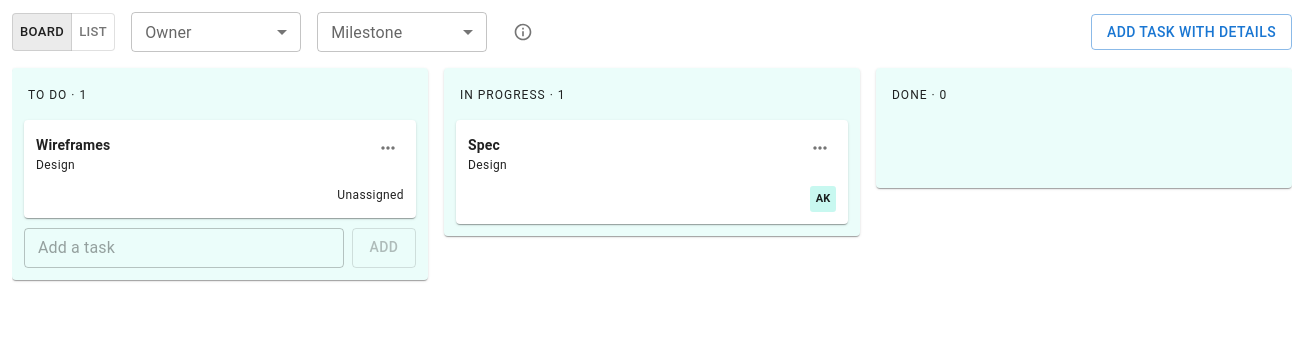
TasksTab: a manager › shows no toast and no Undo when a move is refused
Expected: the button "Wireframes" is shown, [36,135,110,155]
Click the button named "Task actions: Wireframes".
click(388, 148)  # box [366,126,410,170]
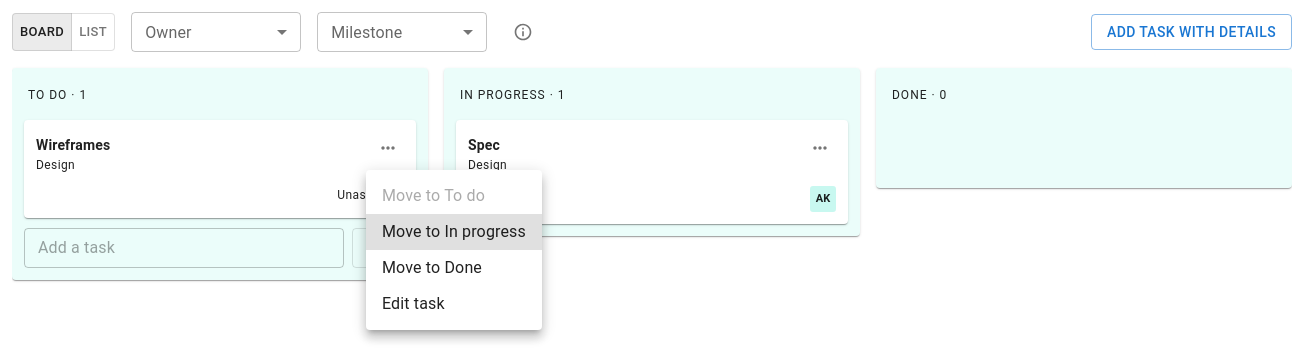
Click the menu item "Move to Done".
click(432, 268)  # box [382,258,482,277]
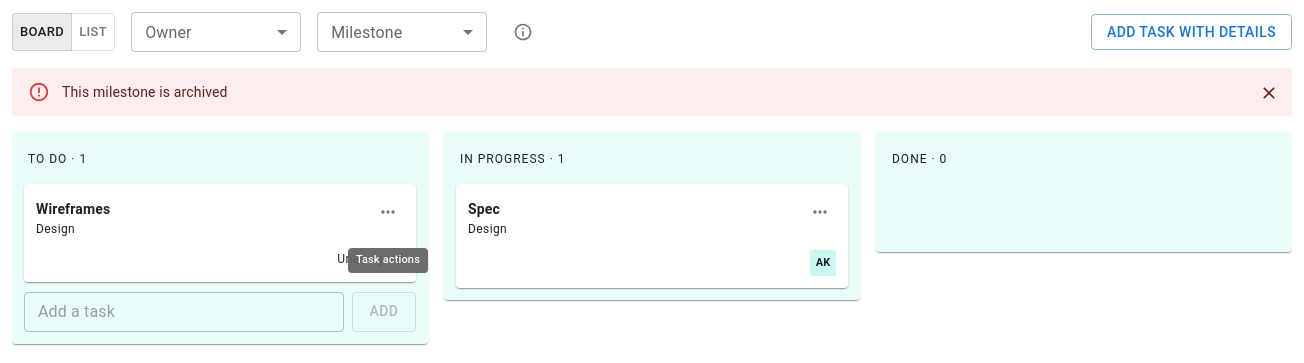
Now the text "This milestone is archived" is shown, box [62,84,228,100]
